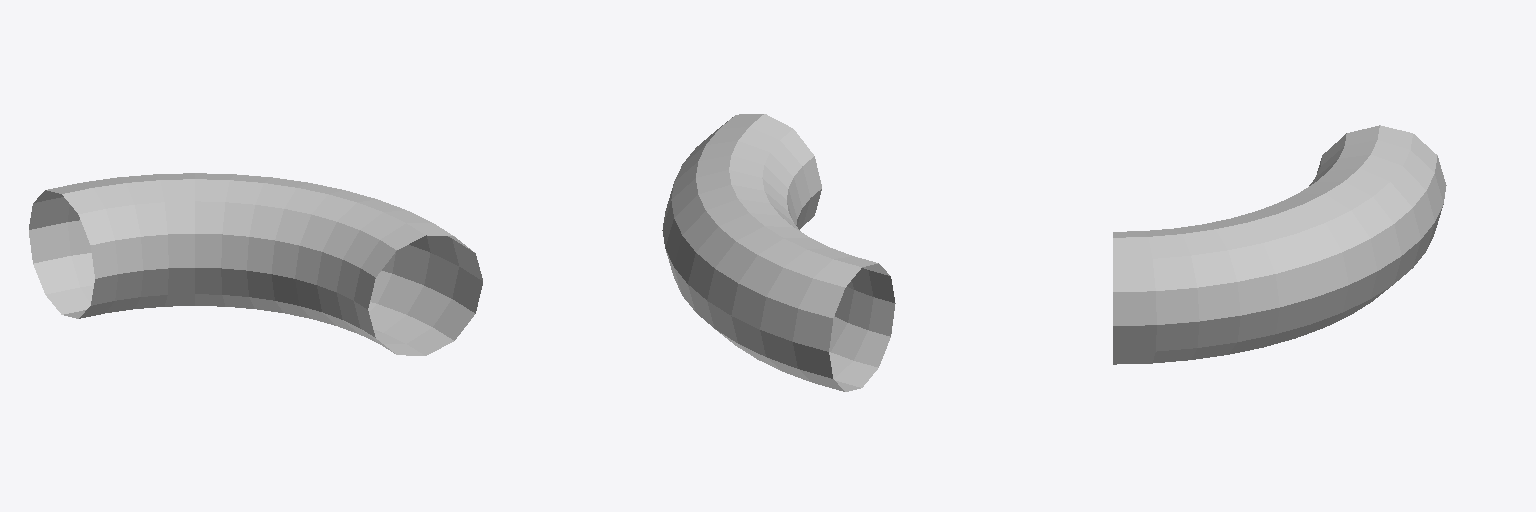
The model's file is hex_border.obj.
3 views of the same model, side by side, from view 1: azimuth 30°, elevation 25°; view 2: azimuth 150°, elevation 25°; view 3: azimuth 270°, elevation 25° (orthographic).
Visible parts, largest first — view 1: Circle; view 2: Circle; view 3: Circle.
Part boxes in pixels (bbox=[...]): Circle: bbox=[29, 173, 482, 355]; Circle: bbox=[662, 114, 895, 391]; Circle: bbox=[1113, 125, 1446, 364].
Bounding box in the file's own units: 3.55 × 1.42 × 3.55.